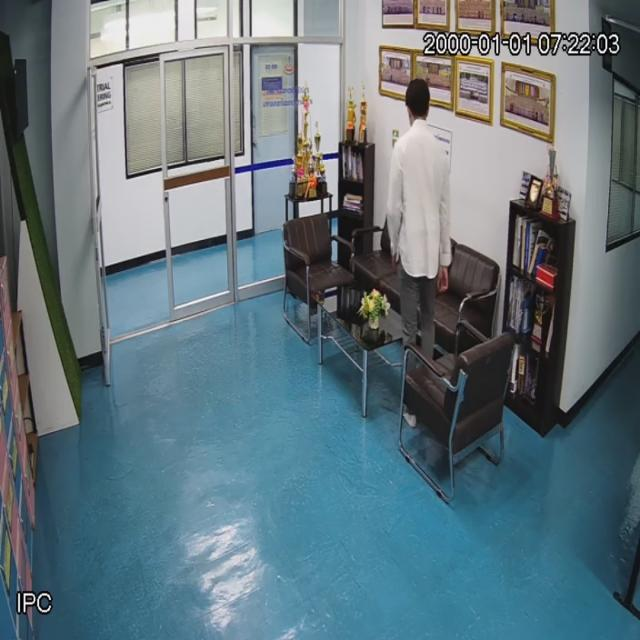normal: (386, 77, 453, 349)
